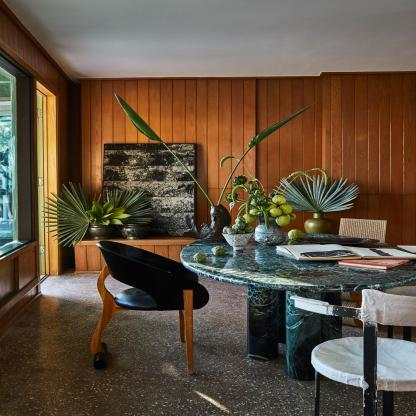chair: (82, 235, 224, 379), (288, 270, 416, 416), (336, 203, 388, 311)
door: (39, 84, 62, 286)
table: (177, 233, 402, 383)
